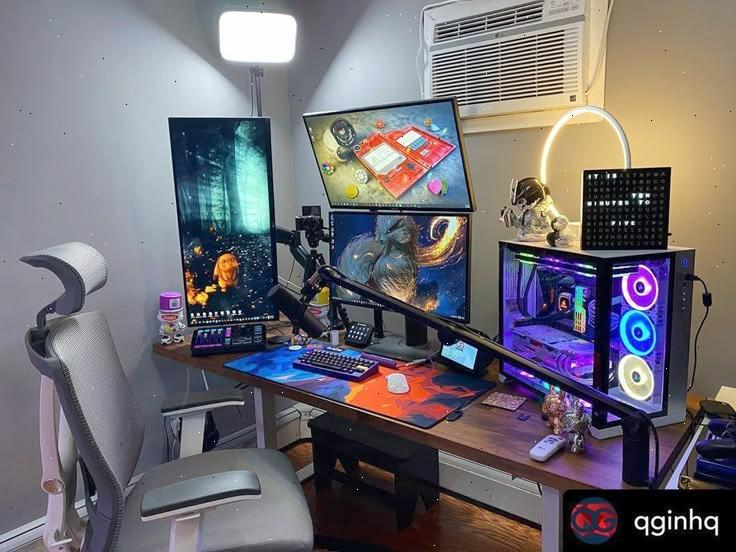keyboard: (286, 344, 384, 387)
monitor: (163, 112, 287, 328), (296, 92, 486, 217), (321, 203, 476, 334)
mouse: (381, 367, 415, 398)
pc: (495, 225, 701, 442)
